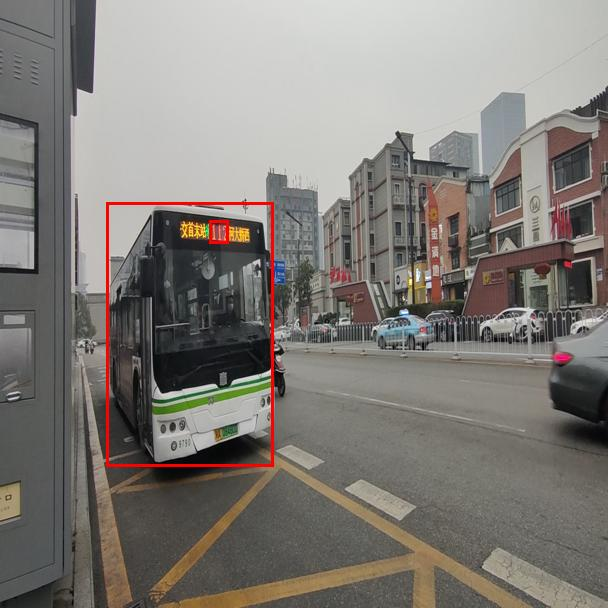bus: (106, 202, 273, 466)
screen: (209, 220, 228, 243)
